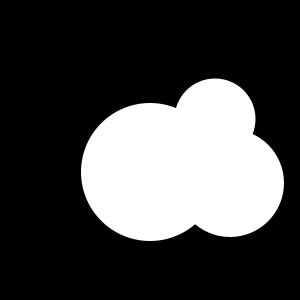circle: (159, 127, 221, 189)
rectangle: (81, 103, 219, 241), (176, 129, 284, 237), (174, 78, 256, 160)
